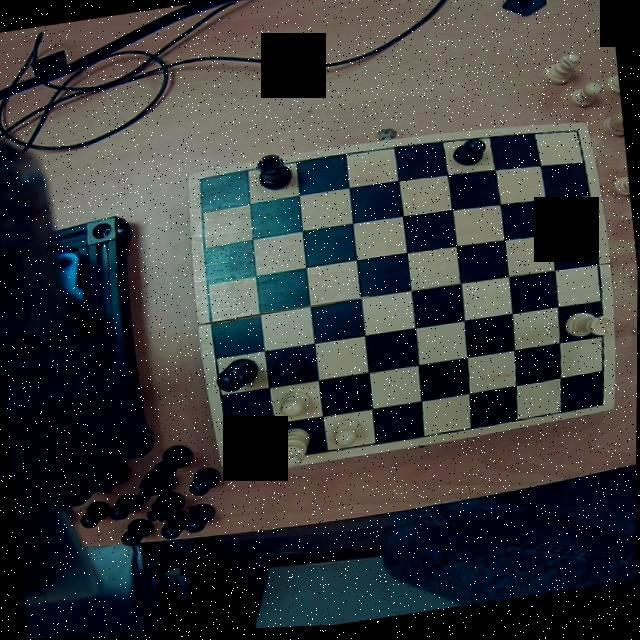chess-table-corners: (190, 173, 217, 197), (220, 452, 244, 477), (585, 400, 614, 419), (565, 130, 589, 151)
